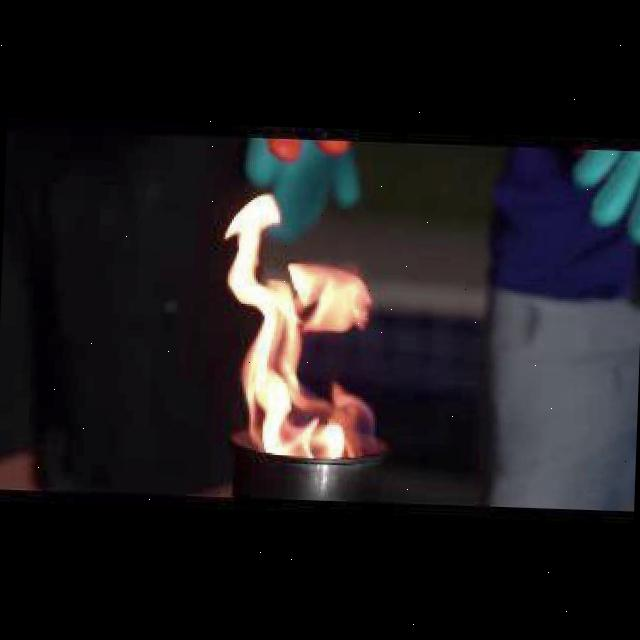fire: (211, 176, 385, 470)
